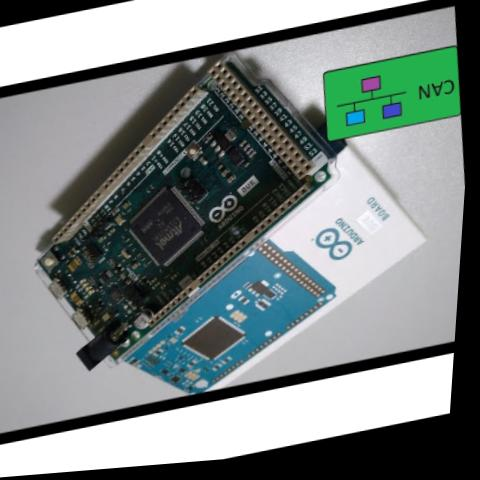Arduino-Due: (0, 38, 362, 390)
